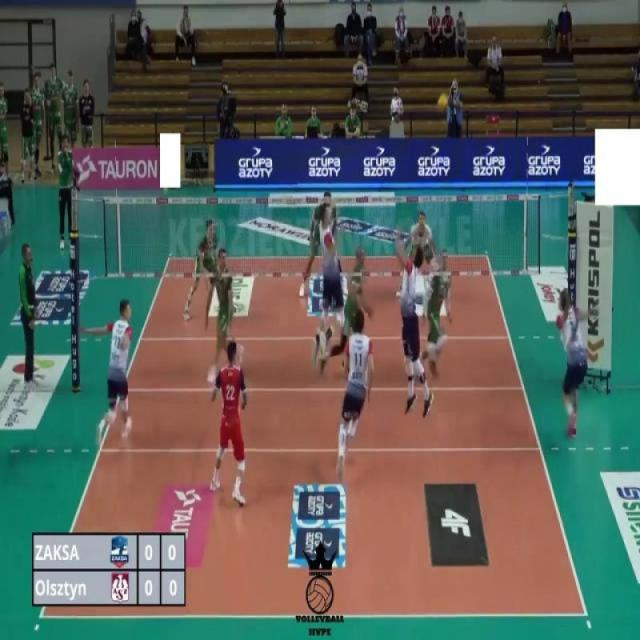volleyball: (436, 91, 449, 116)
